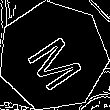M_NE: (19, 23, 87, 89)
